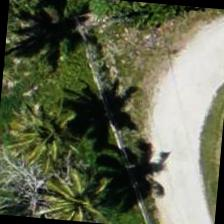Kelapa_Sawit: (0, 77, 96, 176), (29, 151, 126, 223)
